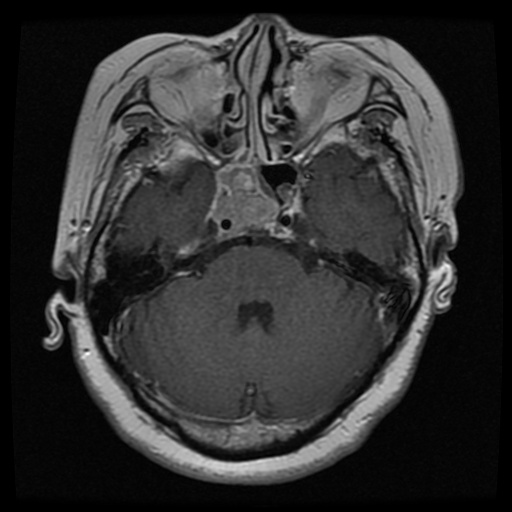pituitary: (209, 164, 277, 237)
